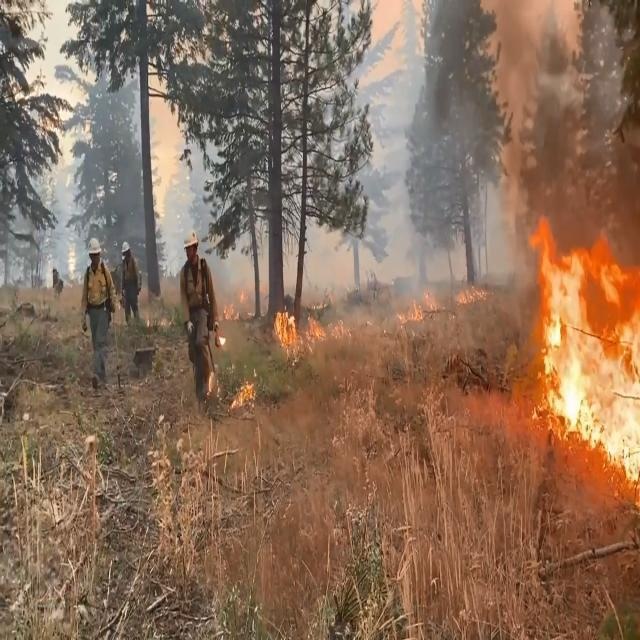Fire: (517, 201, 640, 489)
